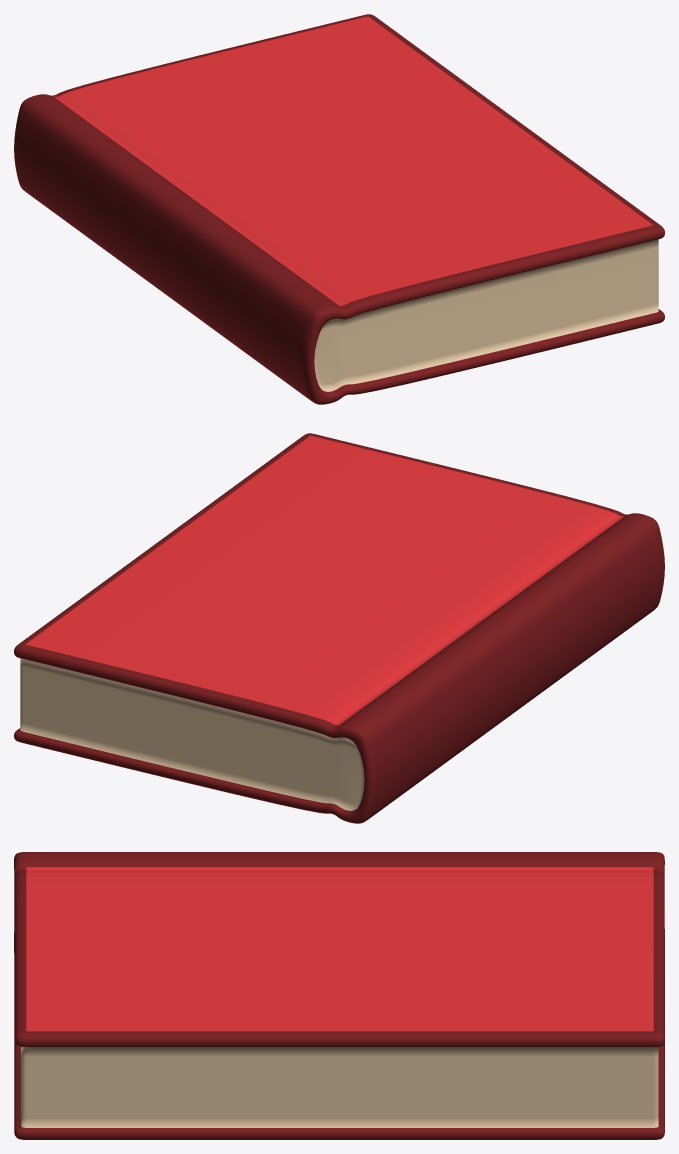
The model's file is Book_Red.fbx.
3 views of the same model, one above another, from view 1: azimuth 30°, elevation 25°; view 2: azimuth 150°, elevation 25°; view 3: azimuth 270°, elevation 25° (orthographic). The views are drawn at different scales.
Visible parts, largest first — view 1: Book Red.001; view 2: Book Red.001; view 3: Book Red.001.
Boxes of the visible parts, <box> form: Book Red.001: <box>14,14,664,404</box>; Book Red.001: <box>14,433,664,823</box>; Book Red.001: <box>14,852,664,1139</box>.
Size of the model in its own units: 16.98 by 24.13 by 4.35.
